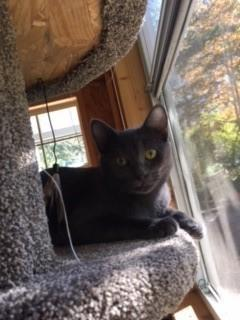rblue: (83, 102, 187, 208)
